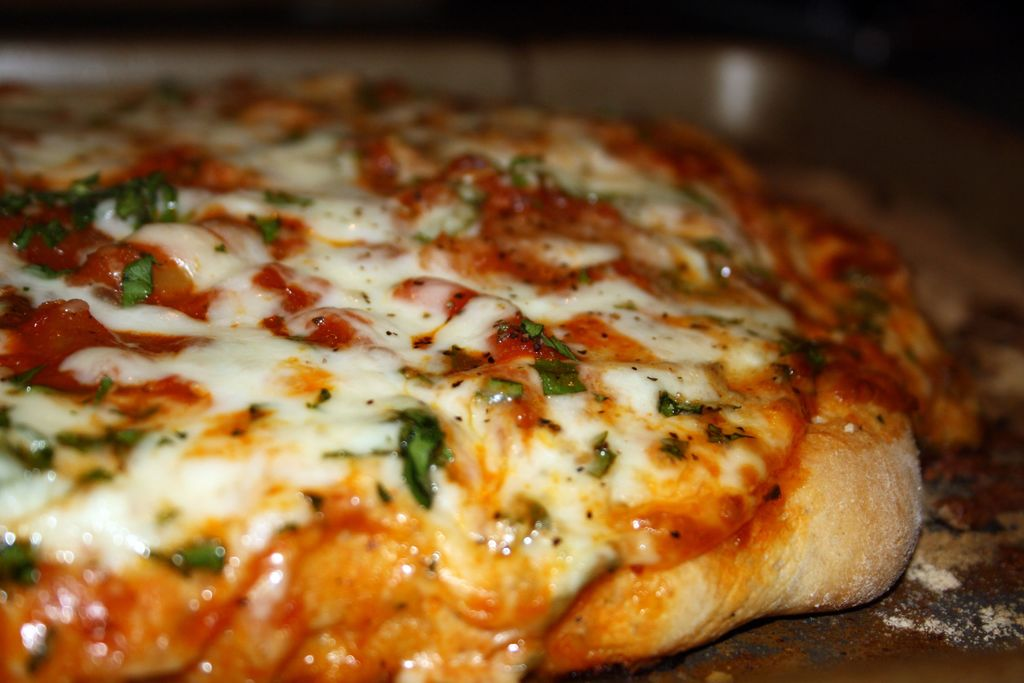Pizza: (0, 68, 985, 682)
